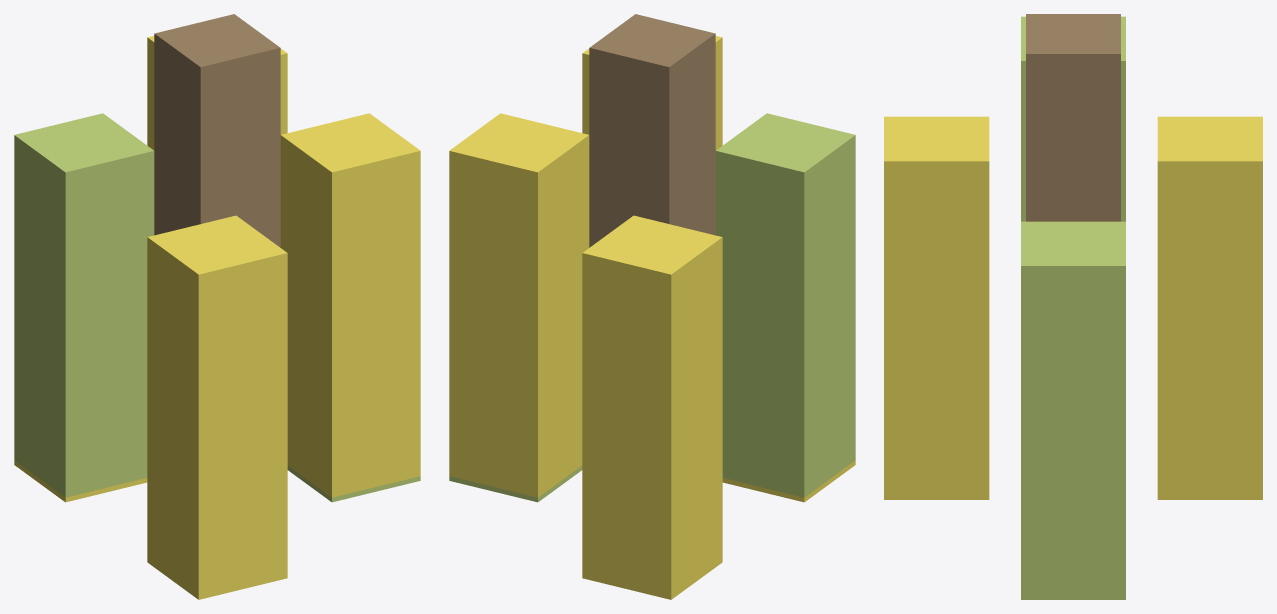
File: macacos_cacho_banana.glb
3 renders of one model, left to right at view 1: azimuth 30°, elevation 25°; view 2: azimuth 150°, elevation 25°; view 3: azimuth 270°, elevation 25°, orthographic. The views are drawn at different scales.
Visible parts, largest first — view 1: macacos_cacho_banana; view 2: macacos_cacho_banana; view 3: macacos_cacho_banana.
Part boxes in pixels (<box>): macacos_cacho_banana: <box>14,14,420,599</box>; macacos_cacho_banana: <box>449,14,855,599</box>; macacos_cacho_banana: <box>884,14,1262,599</box>.
Size of the model in its own units: 0.8 by 1.1 by 0.7196.
